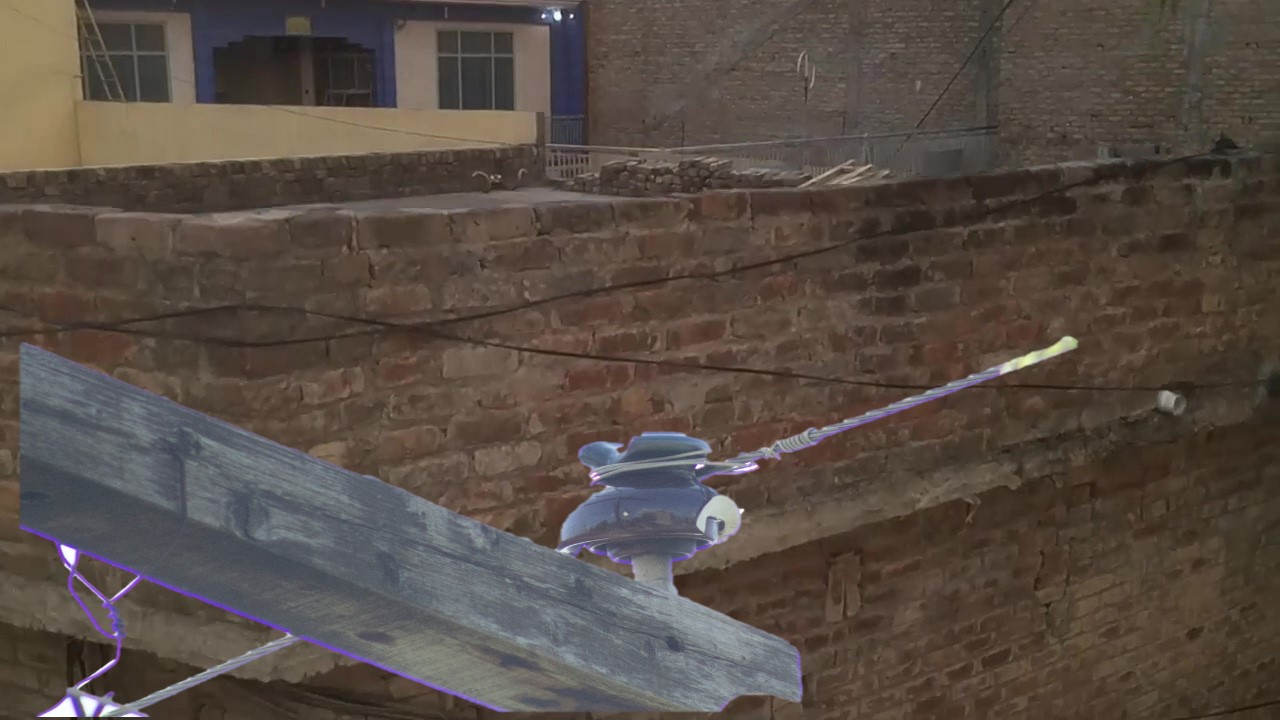defect_pin: (550, 426, 754, 571)
